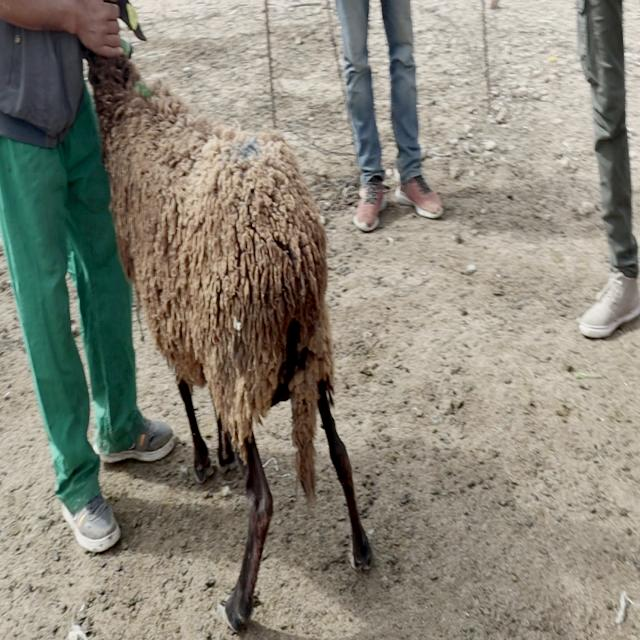Score_1: (87, 50, 373, 632)
